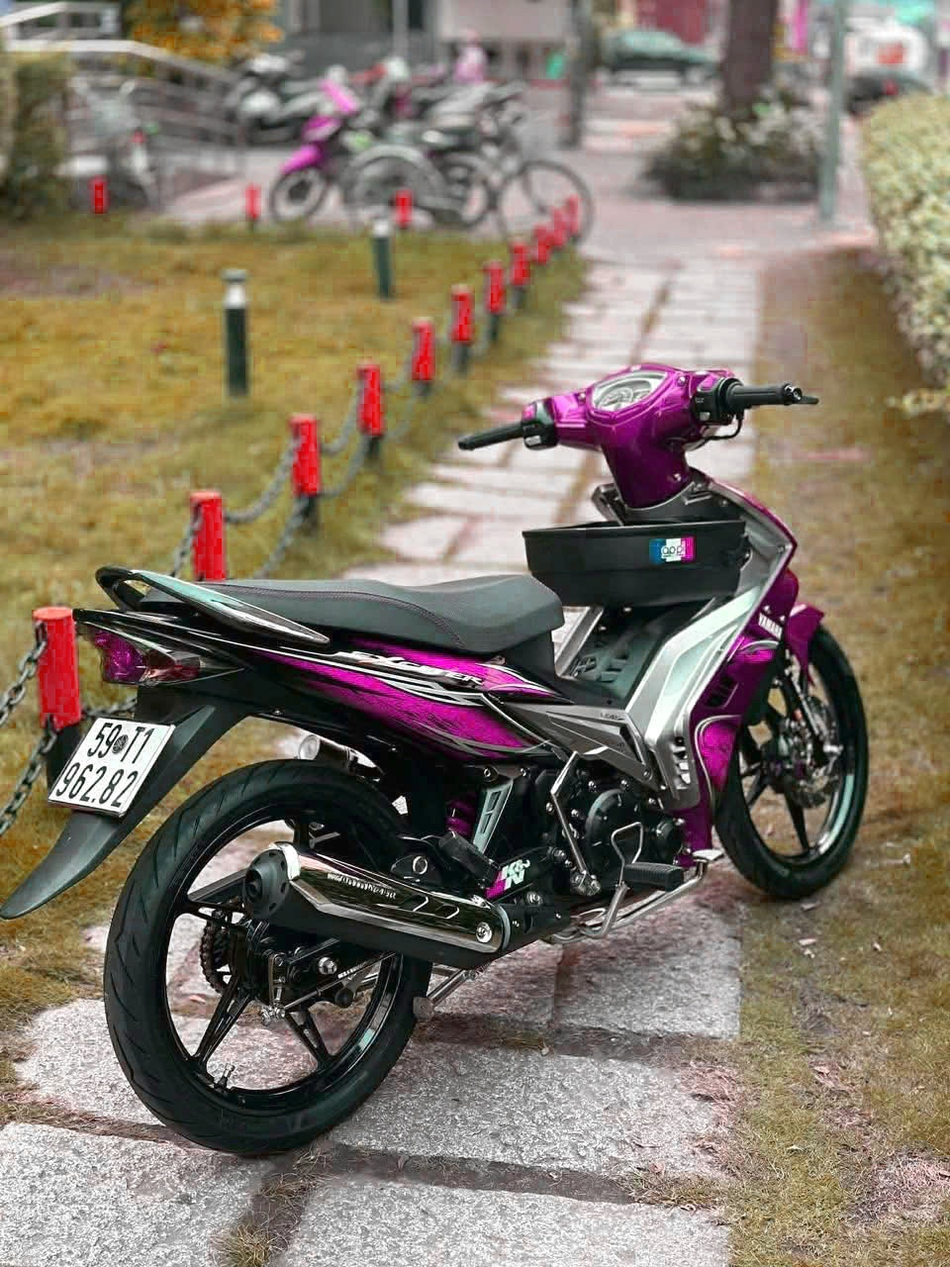Bien-so: (55, 763, 180, 870)
